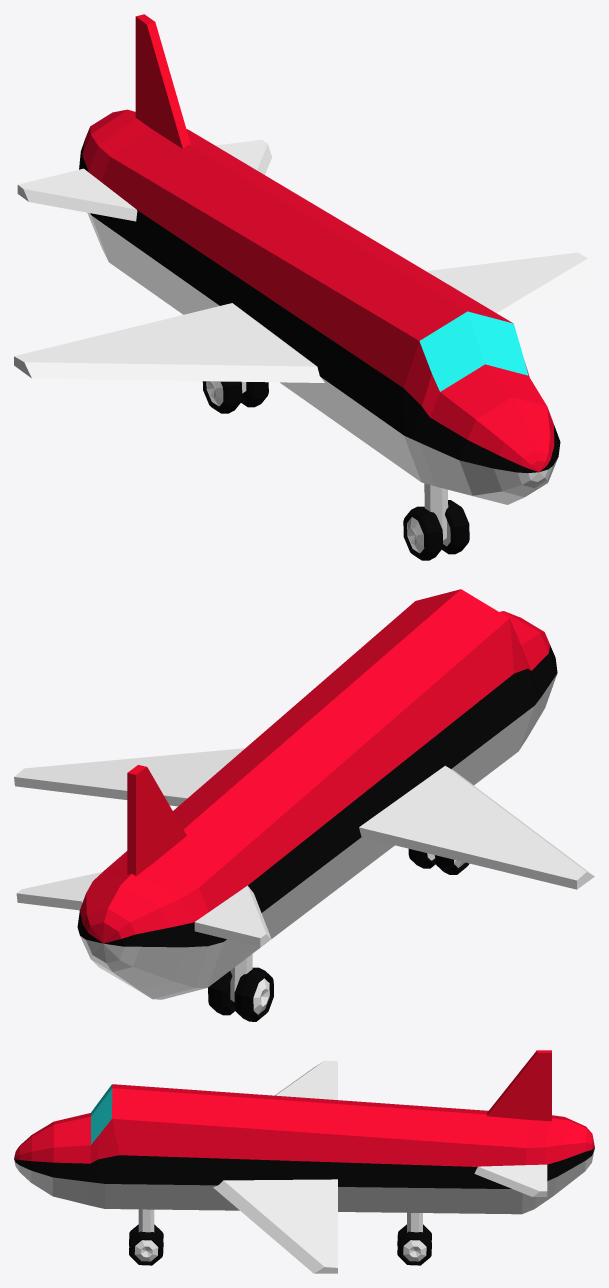
The model's file is Plane_Wheels.fbx.
3 views of the same model, one above another, from view 1: azimuth 30°, elevation 25°; view 2: azimuth 150°, elevation 25°; view 3: azimuth 270°, elevation 25° (orthographic). The views are drawn at different scales.
Parts seen in each view (by area): view 1: Plane_Wheels; view 2: Plane_Wheels; view 3: Plane_Wheels.
Boxes of the visible parts, x1,y1,x2,y2 form: Plane_Wheels: [14, 14, 594, 560]; Plane_Wheels: [14, 589, 594, 1021]; Plane_Wheels: [14, 1050, 594, 1273].
Bounding box in the file's own units: 843 × 450 × 1124.
